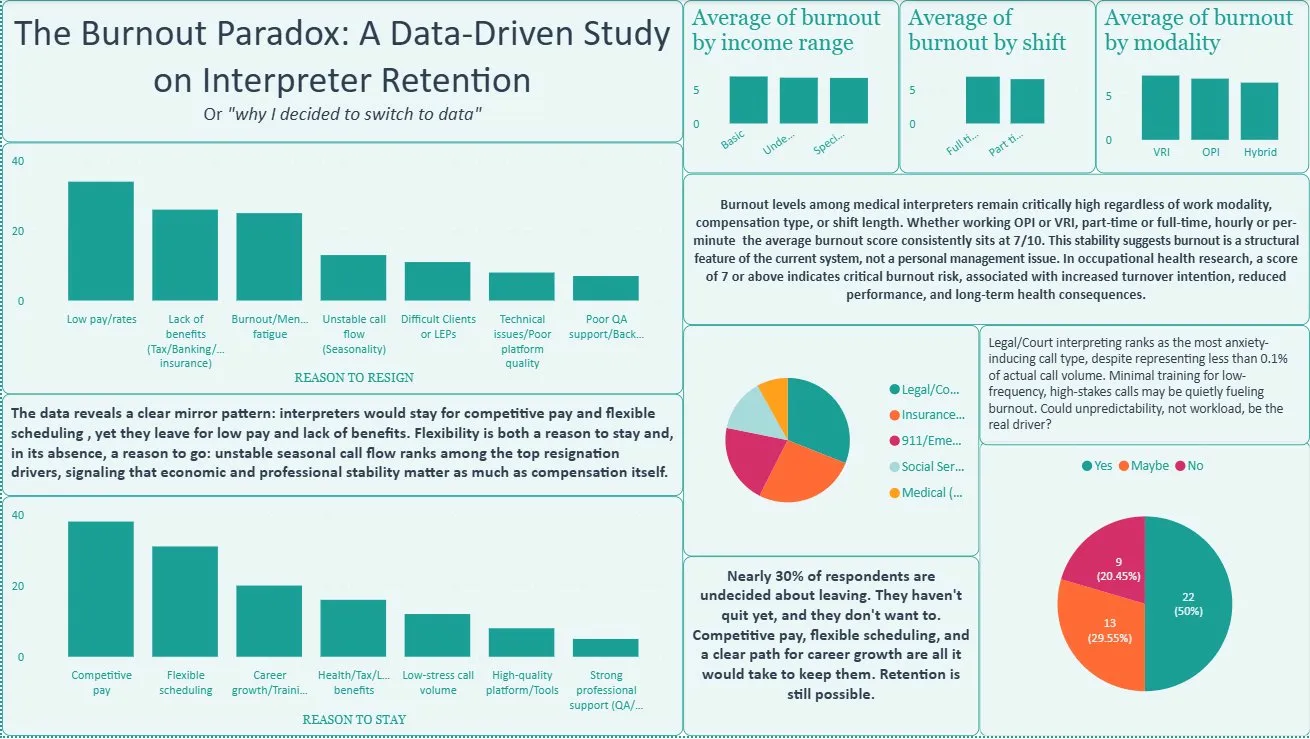

What the dashboard file says about the page in this screenshot:
{"tool":"powerbi","page":{"name":"Page 1","canvas":[1280,720],"ordinal":0},"visuals":[{"type":"pieChart","fields":{"Category":["Hoja 6.CALL "],"Y":["Sum(Hoja 6.VOTE)"]},"box":[666.7,317.4,289.9,226.1],"z":0},{"type":"columnChart","fields":{"Category":["REASON TO RESIGN.REASON TO RESIGN"],"Y":["Sum(REASON TO RESIGN.VOTES)"]},"box":[0,139.1,666.7,246.4],"z":1000},{"type":"columnChart","fields":{"Category":["REASON TO STAY.REASON TO STAY"],"Y":["Sum(REASON TO STAY.VOTES)"]},"box":[0,485.5,666.4,234.8],"z":2000},{"type":"pieChart","fields":{"Category":["Calculos_Finales.volveria"],"Y":["CountNonNull(Calculos_Finales.volveria)"]},"box":[956.3,431.7,324.1,288.6],"z":3000},{"type":"textbox","box":[0,0,666.4,139.4],"z":4000},{"type":"textbox","box":[666.4,170,612.6,148],"z":5000},{"type":"columnChart","fields":{"Y":["Avg(Calculos_Finales.burnout)"],"Category":["Calculos_Finales.modalidad"]},"box":[1070,0,209.1,170],"z":6000},{"type":"columnChart","fields":{"Category":["Calculos_Finales.turno"],"Y":["Avg(Calculos_Finales.burnout)"]},"box":[878,0,192,170],"z":7000},{"type":"columnChart","fields":{"Y":["Avg(Calculos_Finales.burnout)"],"Category":["Calculos_Finales.Column17"]},"box":[666.4,0,211.6,170],"z":8000},{"type":"textbox","box":[956.3,317.9,322.8,117.4],"z":9000},{"type":"textbox","box":[0,385.2,666.4,100.3],"z":10000},{"type":"textbox","box":[666.4,544.2,289.8,176.1],"z":11000}]}

Visuals, with their boxes in screenshot pixels (x1, y1, x2, y2), scaled from the page's 1280x720 canvas onto the 1310x739 screenshot:
pieChart - Hoja 6.CALL  x Sum(Hoja 6.VOTE): locate(682, 326, 979, 558)
columnChart - REASON TO RESIGN.REASON TO RESIGN x Sum(REASON TO RESIGN.VOTES): locate(0, 143, 682, 396)
columnChart - REASON TO STAY.REASON TO STAY x Sum(REASON TO STAY.VOTES): locate(0, 498, 682, 738)
pieChart - Calculos_Finales.volveria x CountNonNull(Calculos_Finales.volveria): locate(979, 443, 1309, 738)
textbox: locate(0, 0, 682, 143)
textbox: locate(682, 174, 1309, 326)
columnChart - Avg(Calculos_Finales.burnout) x Calculos_Finales.modalidad: locate(1095, 0, 1309, 174)
columnChart - Calculos_Finales.turno x Avg(Calculos_Finales.burnout): locate(899, 0, 1095, 174)
columnChart - Avg(Calculos_Finales.burnout) x Calculos_Finales.Column17: locate(682, 0, 899, 174)
textbox: locate(979, 326, 1309, 447)
textbox: locate(0, 395, 682, 498)
textbox: locate(682, 559, 979, 738)
